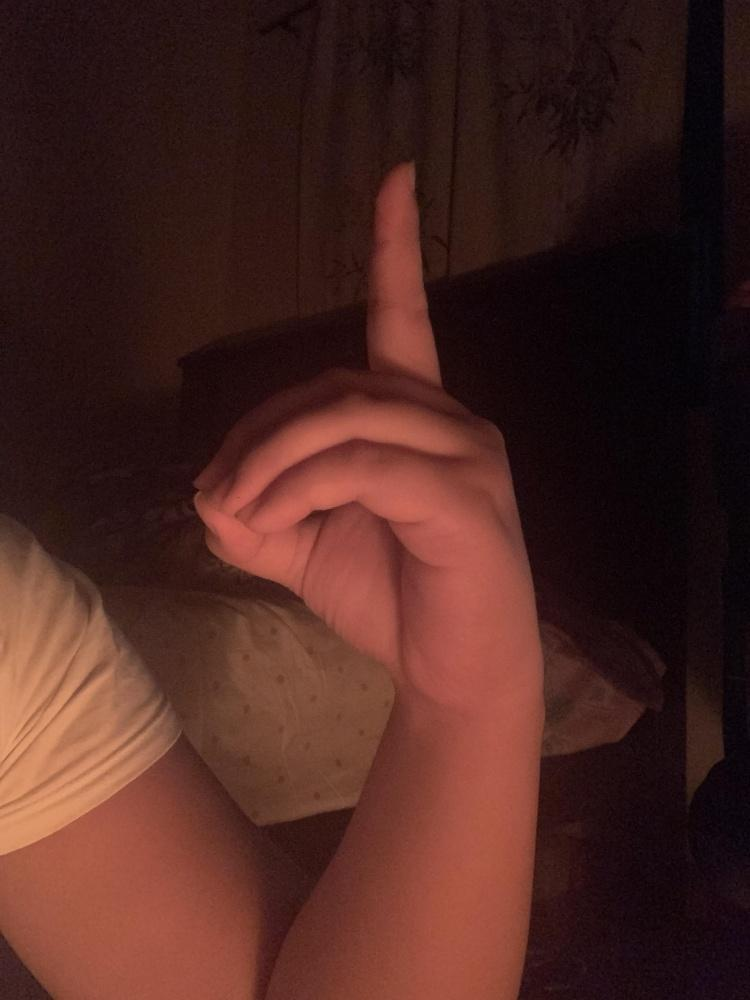d: (188, 161, 543, 672)
